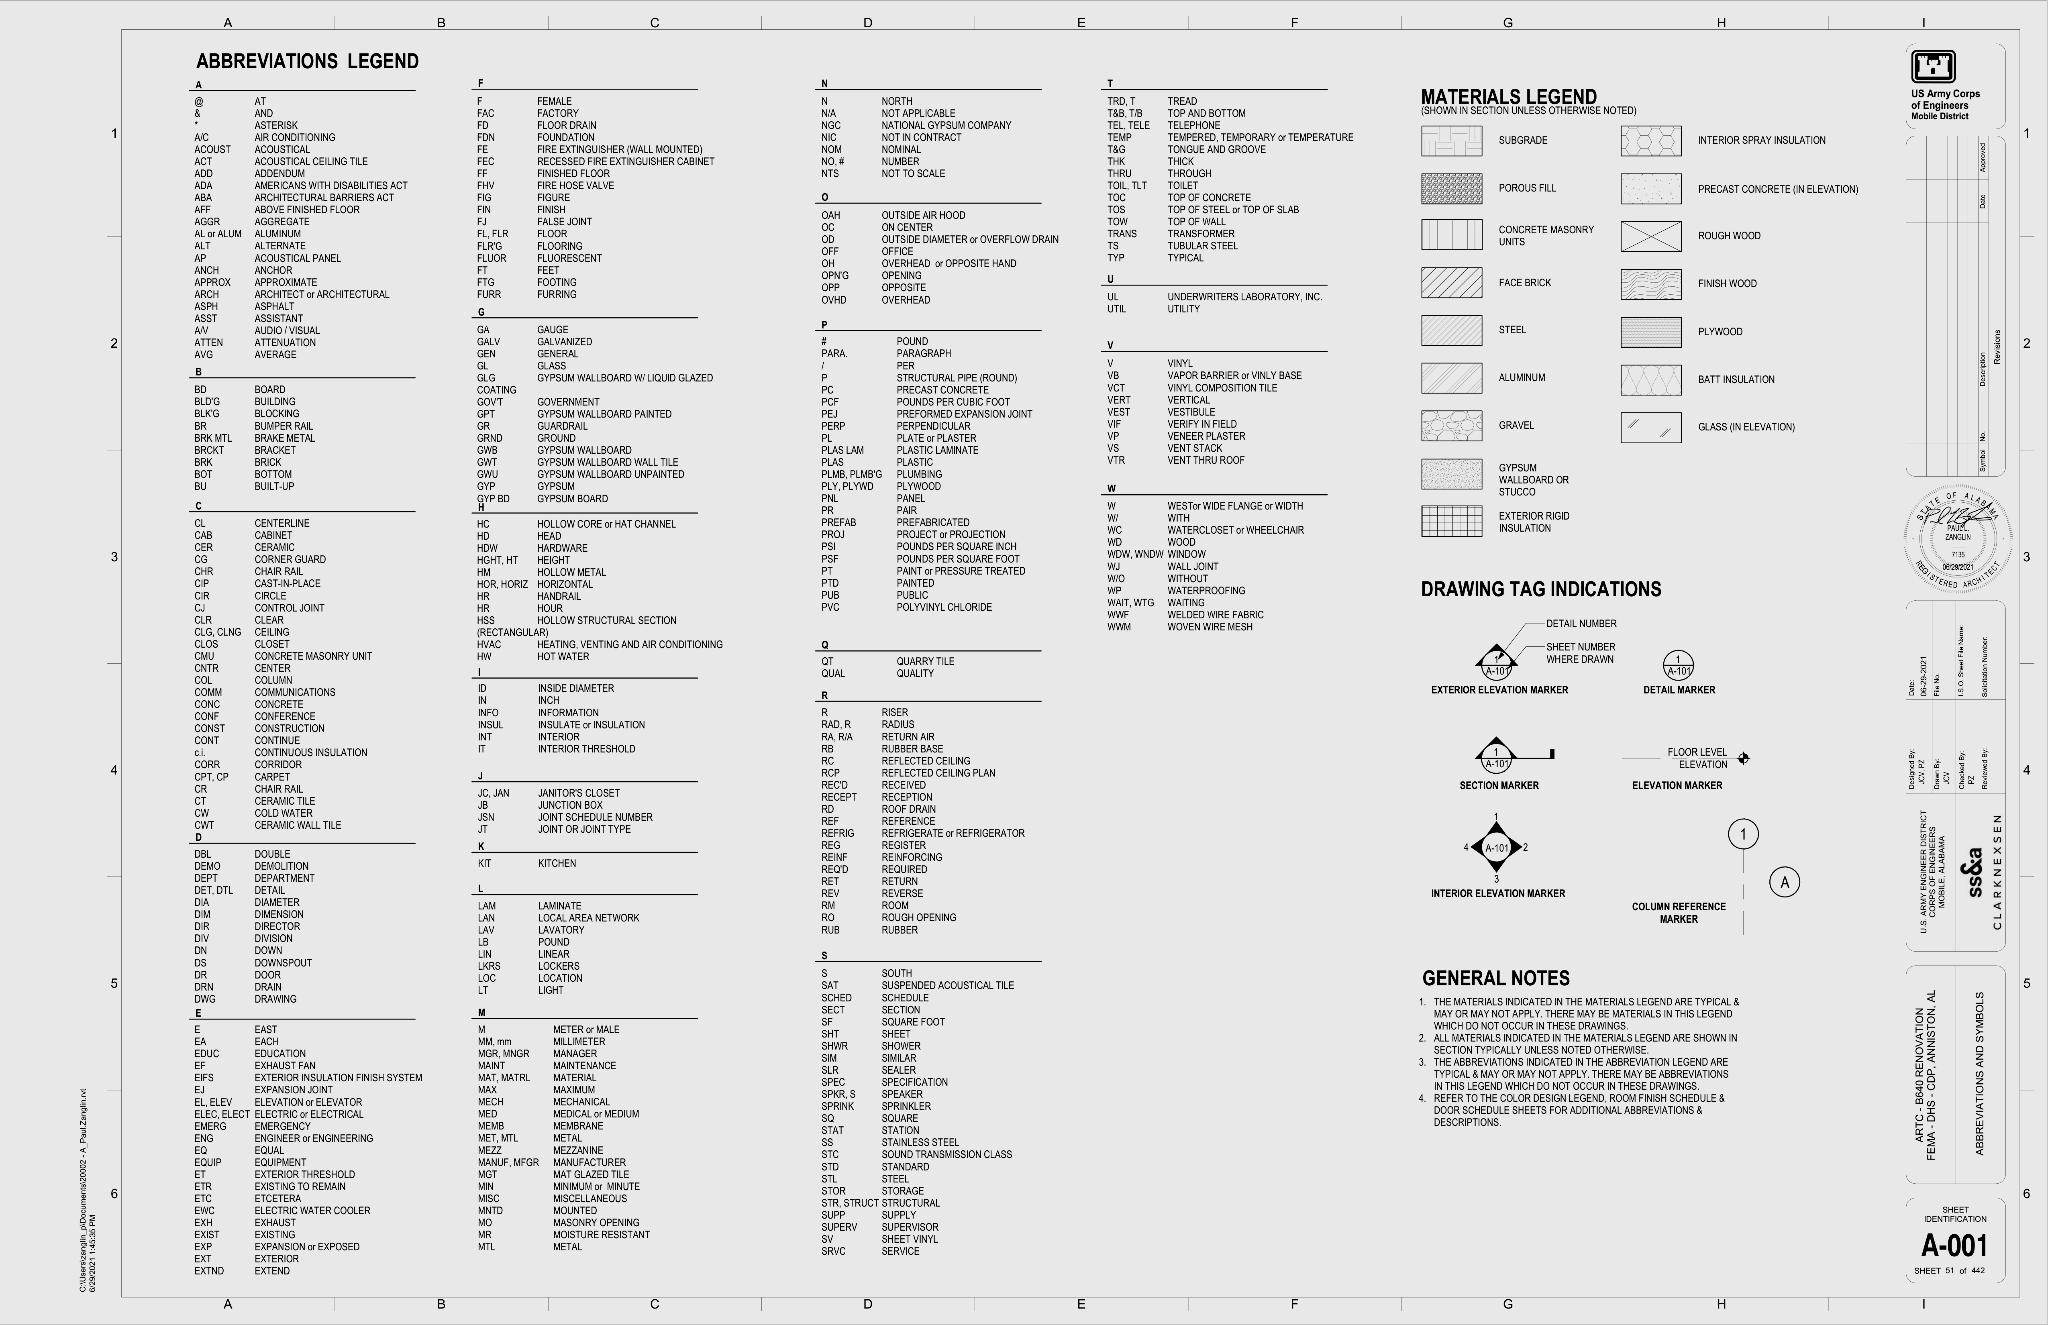detail: (1658, 643, 1702, 683)
elevation: (1461, 810, 1533, 886), (1472, 637, 1524, 685), (1472, 733, 1527, 776)
